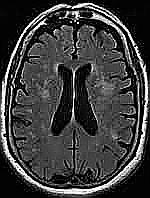Normal_Brain: (3, 5, 150, 198)
